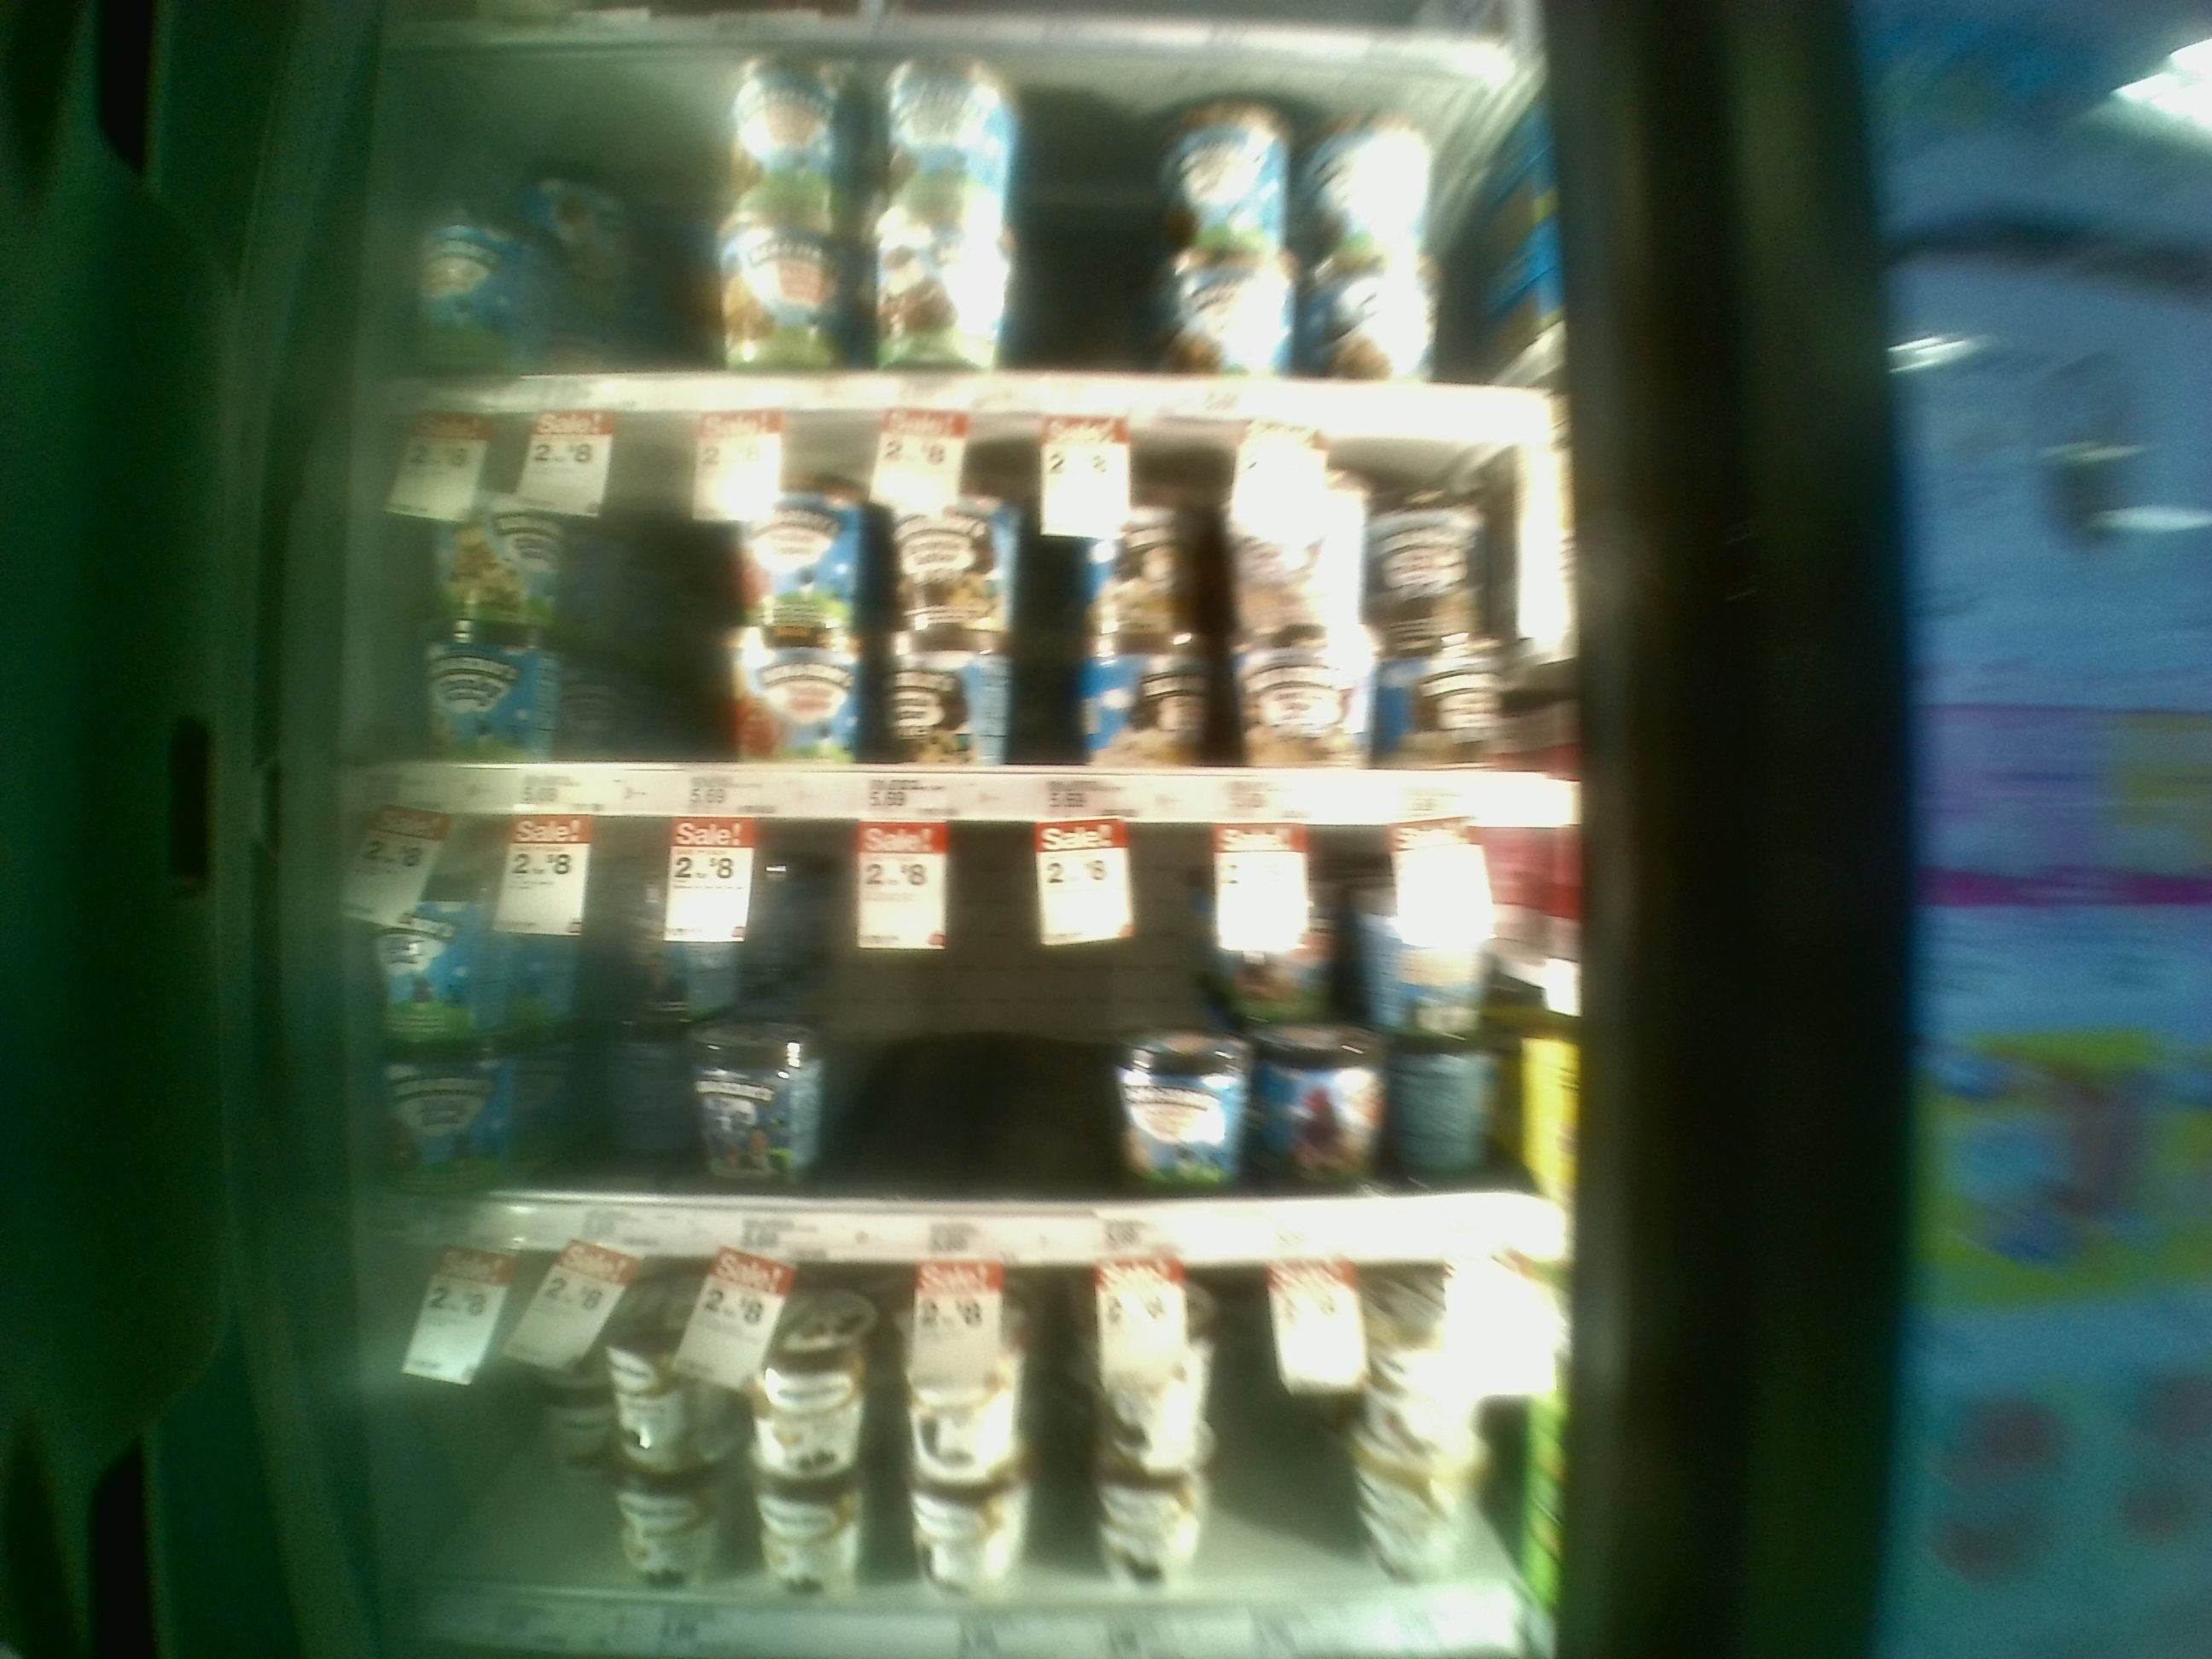shelf: (369, 819, 1578, 1265), (369, 413, 1581, 823)
